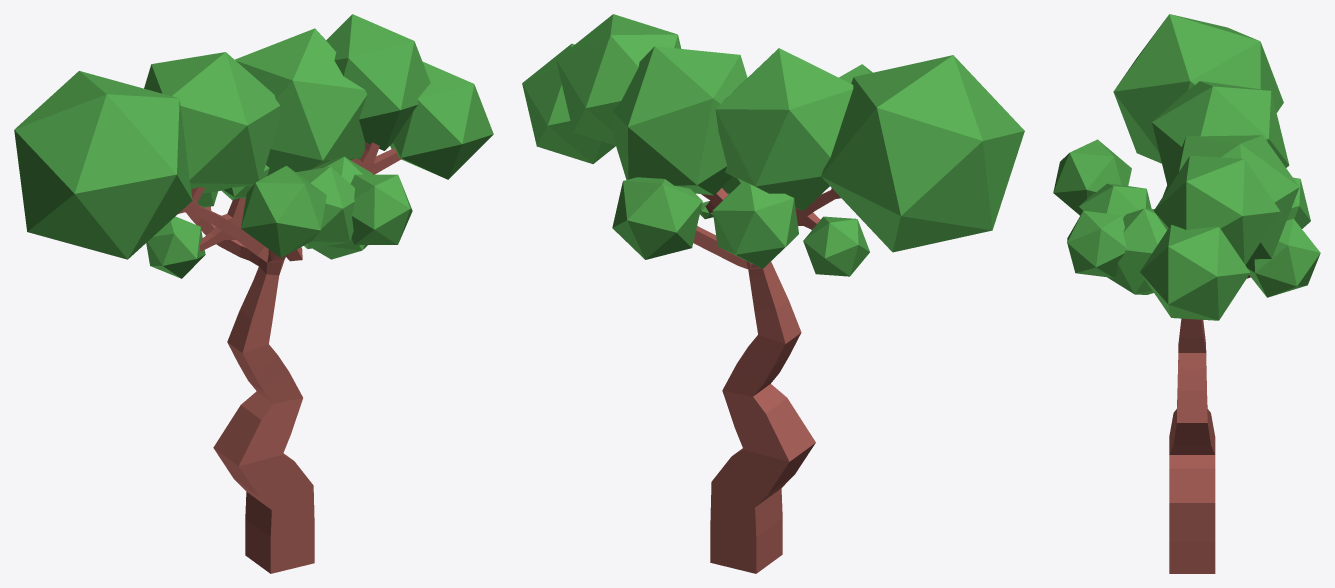
Rendered from Tree2.fbx.
The picture shows the model from 3 angles, left to right: view 1: azimuth 30°, elevation 25°; view 2: azimuth 150°, elevation 25°; view 3: azimuth 270°, elevation 25°; orthographic projection. The views are drawn at different scales.
Parts seen in each view (by area): view 1: Icosphere.008; view 2: Icosphere.008; view 3: Icosphere.008.
Boxes of the visible parts, <box> form: Icosphere.008: <box>14,14,493,573</box>; Icosphere.008: <box>522,14,1024,573</box>; Icosphere.008: <box>1053,14,1320,573</box>.
Bounding box in the file's own units: 1235 × 1369 × 709.
